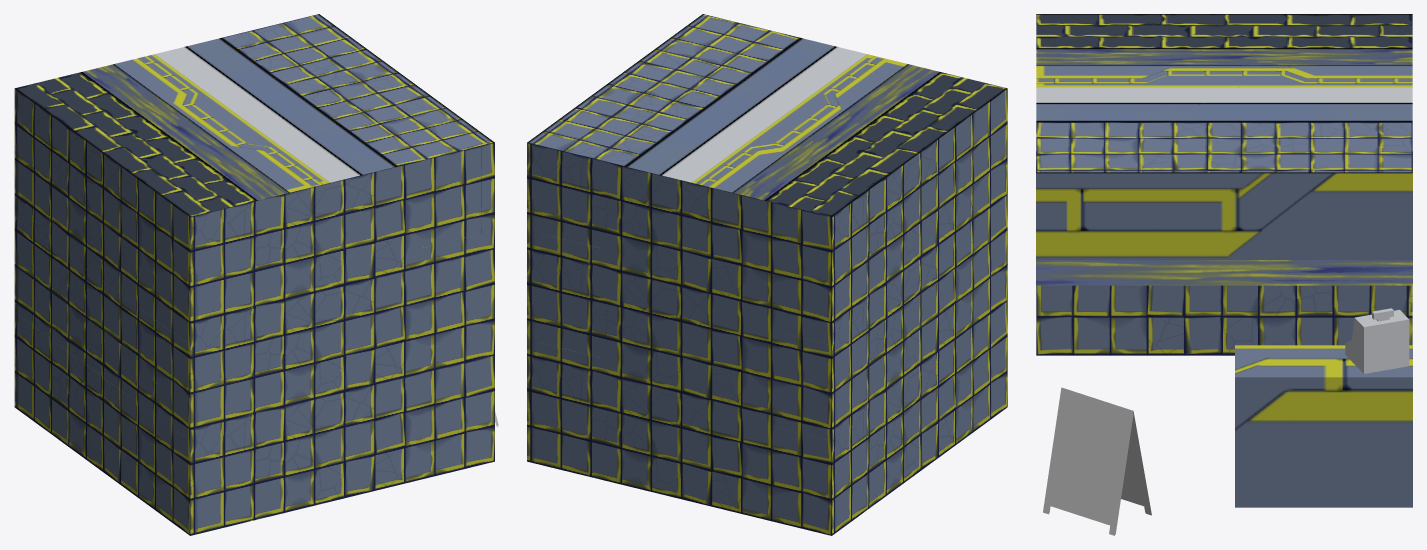
Rendered from Enviornment_Building_TechShop.fbx.
3 renders of one model, left to right at view 1: azimuth 30°, elevation 25°; view 2: azimuth 150°, elevation 25°; view 3: azimuth 270°, elevation 25°, orthographic. The views are drawn at different scales.
Visible parts, largest first — view 1: TechShop1.001; view 2: TechShop1.001; view 3: TechShop1.001, TechShop1.002.
Boxes of the visible parts, <box> form: TechShop1.001: <box>14,14,494,535</box>; TechShop1.001: <box>527,14,1007,535</box>; TechShop1.001: <box>1036,14,1412,507</box>; TechShop1.002: <box>1043,387,1151,535</box>.
Bounding box in the file's own units: 10 × 11.33 × 10.
